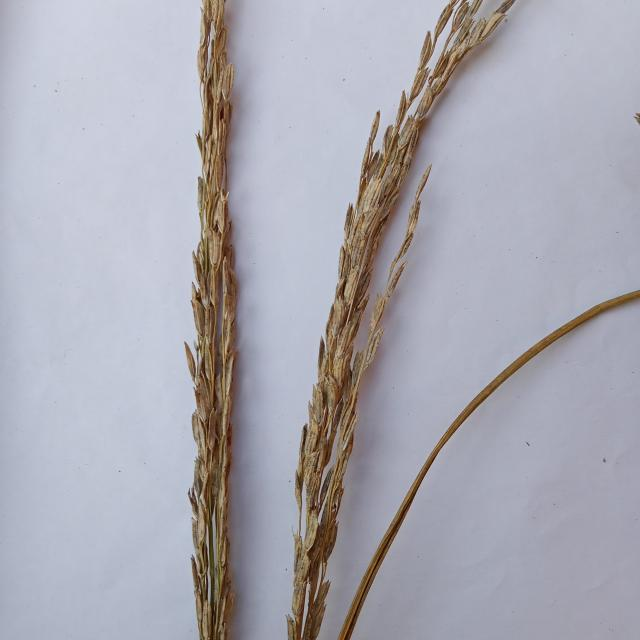Neck_Blast: (292, 10, 502, 637), (197, 1, 235, 625)
